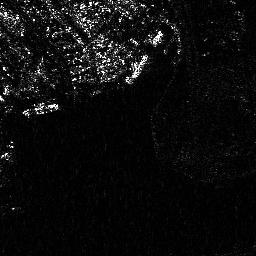ship: (21, 98, 61, 116)
